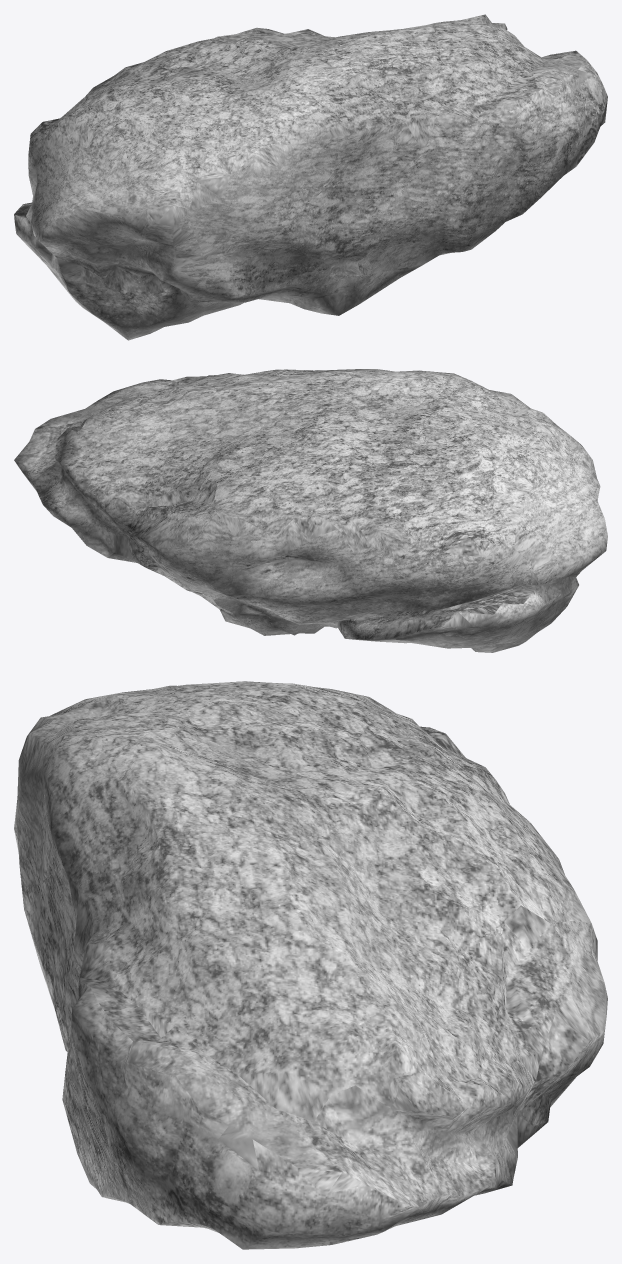
The model's file is namaqualand_boulder_05.glb.
The picture shows the model from 3 angles, top to bottom: view 1: azimuth 30°, elevation 25°; view 2: azimuth 150°, elevation 25°; view 3: azimuth 270°, elevation 25°; orthographic projection. The views are drawn at different scales.
Parts seen in each view (by area): view 1: namaqualand_boulder_05; view 2: namaqualand_boulder_05; view 3: namaqualand_boulder_05.
Boxes of the visible parts, x1,y1,x2,y2 form: namaqualand_boulder_05: (14,14,607,340); namaqualand_boulder_05: (14,369,607,652); namaqualand_boulder_05: (14,681,607,1249).
Bounding box in the file's own units: 1.36 × 0.5279 × 0.7406.
Materials: 1 (1 with a texture image).
